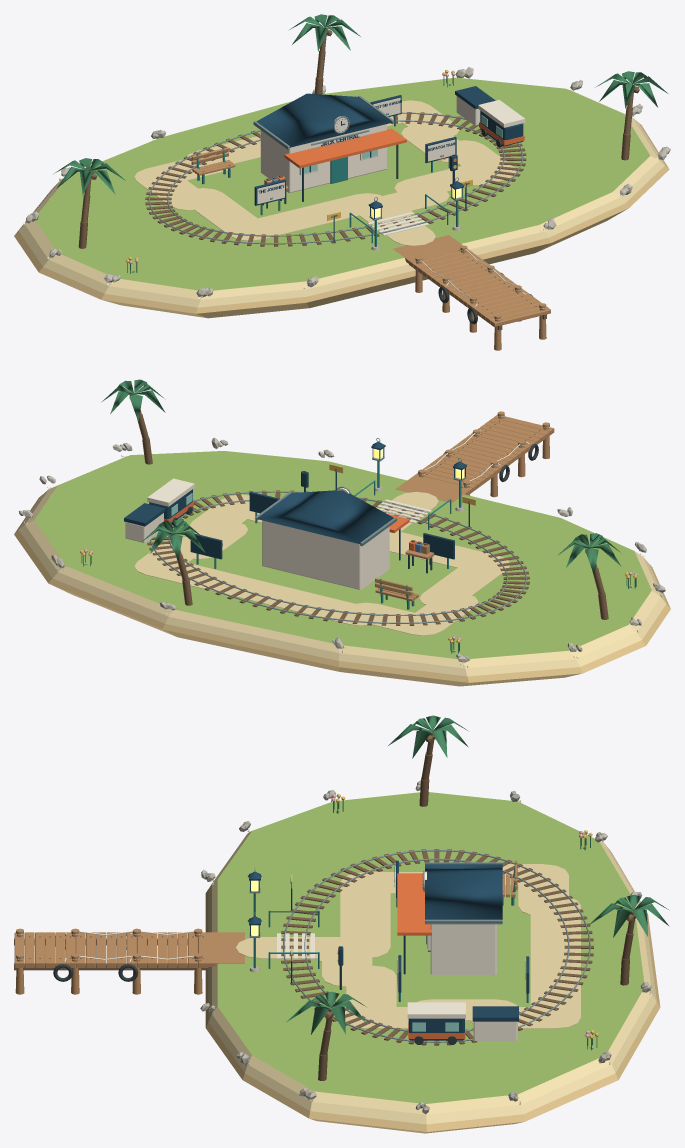
The model's file is amtrak.glb.
The picture shows the model from 3 angles, top to bottom: view 1: azimuth 30°, elevation 25°; view 2: azimuth 150°, elevation 25°; view 3: azimuth 270°, elevation 25°; orthographic projection. The views are drawn at different scales.
Parts seen in each view (by area): view 1: static_grass, static_sand, static_wood, static_sandEdge, static_ivory, static_darkWood, occluder_amtrak_roof_navy, static_metal, occluder_amtrak_canopy_orange, static_stone, anim_train_ivory, anim_train_navy (+7 smaller); view 2: static_grass, static_sand, static_wood, static_sandEdge, static_ivory, occluder_amtrak_roof_navy, static_darkWood, static_metal, static_stone, anim_train_ivory, occluder_amtrak_tree_4_leaf, occluder_amtrak_tree_12_leaf (+6 smaller); view 3: static_grass, static_sand, static_wood, static_darkWood, static_sandEdge, static_ivory, occluder_amtrak_roof_navy, static_metal, anim_train_ivory, occluder_amtrak_canopy_orange, anim_train_navy, static_stone (+6 smaller).
Part boxes in pixels (x1,y1,x2,y2): static_grass: [36, 77, 650, 290]; static_sand: [19, 89, 664, 307]; static_wood: [191, 147, 550, 350]; static_sandEdge: [14, 122, 669, 318]; static_ivory: [23, 89, 657, 319]; static_darkWood: [145, 112, 546, 330]; occluder_amtrak_roof_navy: [253, 93, 392, 148]; static_metal: [148, 112, 523, 244]; occluder_amtrak_canopy_orange: [284, 128, 406, 168]; static_stone: [25, 67, 670, 296]; anim_train_ivory: [456, 96, 525, 127]; anim_train_navy: [455, 86, 523, 146]; static_grass: [34, 451, 651, 658]; static_sand: [19, 456, 666, 676]; static_wood: [375, 411, 554, 601]; static_sandEdge: [14, 494, 670, 686]; static_ivory: [23, 415, 662, 667]; occluder_amtrak_roof_navy: [257, 490, 396, 544]; static_darkWood: [147, 417, 545, 625]; static_metal: [150, 438, 526, 623]; static_stone: [19, 438, 665, 662]; anim_train_ivory: [125, 478, 194, 543]; occluder_amtrak_tree_4_leaf: [557, 533, 621, 575]; occluder_amtrak_tree_12_leaf: [101, 379, 165, 421]; static_grass: [217, 792, 644, 1103]; static_sand: [208, 803, 656, 1124]; static_wood: [14, 860, 517, 994]; static_darkWood: [14, 849, 593, 1045]; static_sandEdge: [205, 849, 660, 1133]; static_ivory: [16, 800, 651, 1114]; occluder_amtrak_roof_navy: [425, 864, 502, 922]; static_metal: [249, 849, 590, 1042]; anim_train_ivory: [407, 1002, 517, 1040]; occluder_amtrak_canopy_orange: [397, 873, 431, 935]; anim_train_navy: [408, 1006, 518, 1040]; static_stone: [200, 781, 651, 1113].
Bounding box in the file's own units: 32.01 × 5.4 × 26.73.
